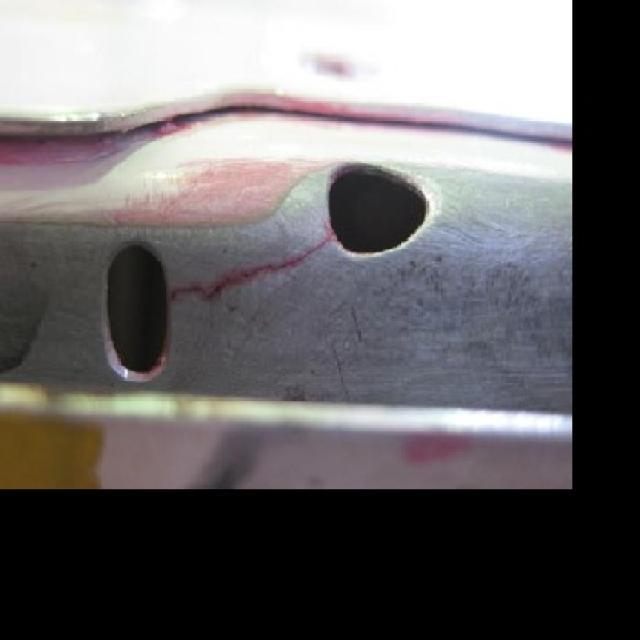crack: (203, 275, 246, 300), (248, 258, 297, 277), (300, 237, 334, 258), (173, 284, 198, 303)
